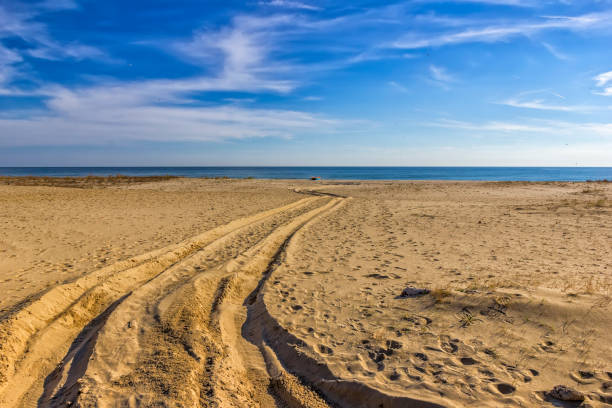human_footprint: (0, 197, 319, 406), (342, 336, 390, 378), (478, 379, 519, 403), (454, 354, 478, 376), (353, 299, 380, 318), (317, 329, 334, 358), (290, 302, 304, 314)
